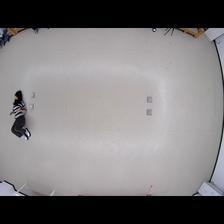fall: (10, 91, 35, 142)
